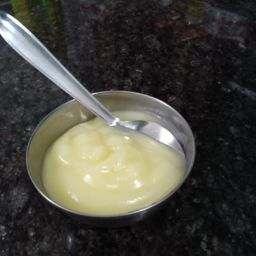Clarified Butter(ghee): (51, 121, 166, 207), (47, 138, 168, 192), (50, 141, 141, 203)
